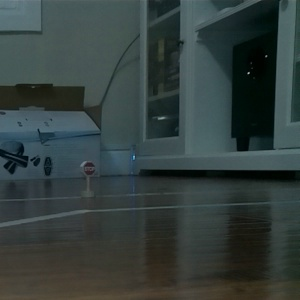stop sign: (78, 159, 97, 201)
